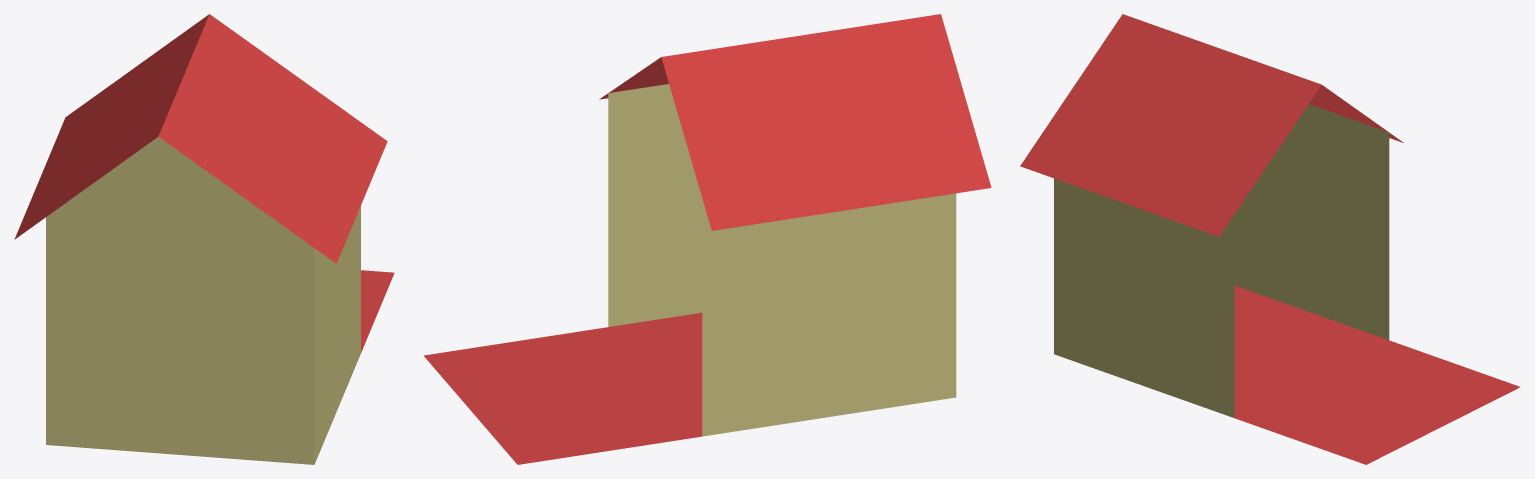
3 views of the same model, side by side, from view 1: azimuth 30°, elevation 25°; view 2: azimuth 150°, elevation 25°; view 3: azimuth 270°, elevation 25° (orthographic). The views are drawn at different scales.
Bounding box in the file's own units: 19.99 × 20.85 × 13.31.
